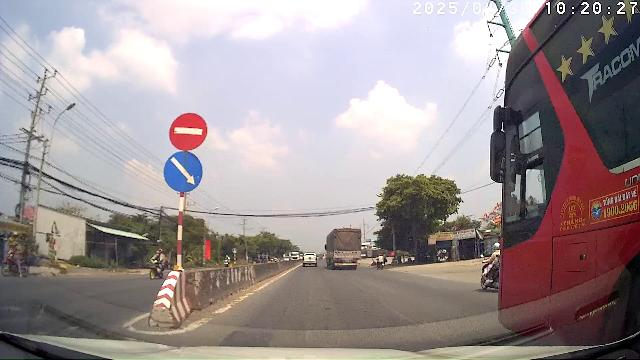102-cam-di-nguoc-chieu: (168, 112, 208, 151)
302a-huong-phai-di-vong-chuong-ngai-vat-1: (162, 151, 203, 193)
